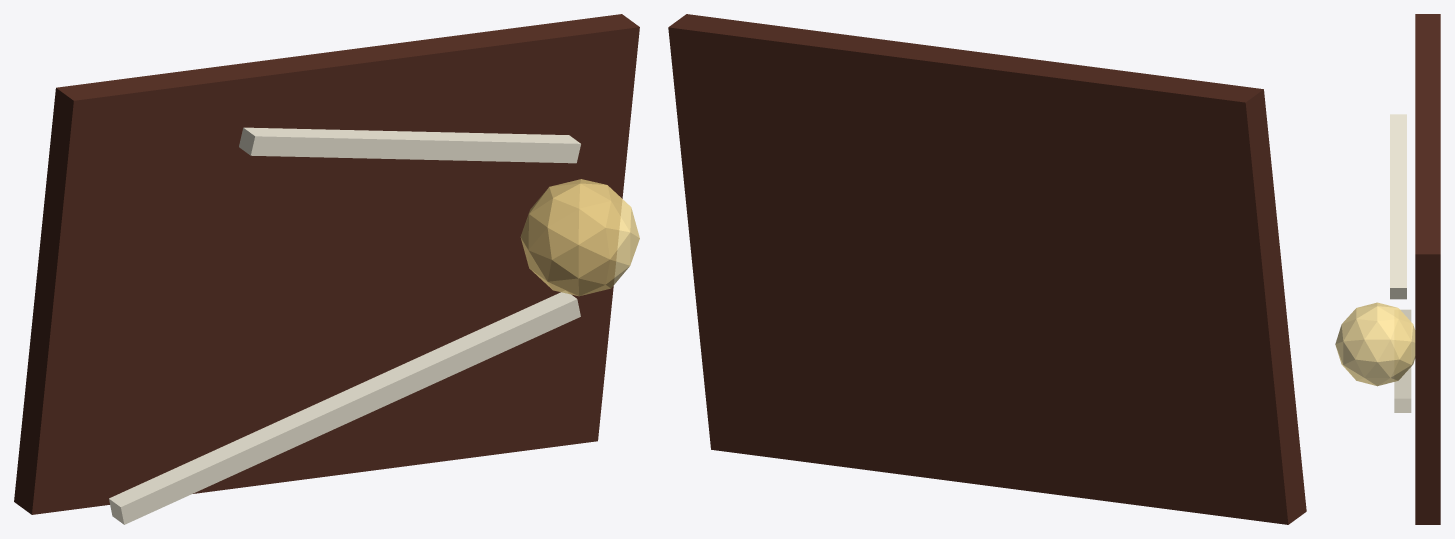
File: 02_world_prop_polish.glb
3 renders of one model, left to right at view 1: azimuth 30°, elevation 25°; view 2: azimuth 150°, elevation 25°; view 3: azimuth 270°, elevation 25°, orthographic. The views are drawn at different scales.
Visible parts, largest first — view 1: object_overlay_plate, edge_wear_a, glow_socket, edge_wear_b; view 2: object_overlay_plate; view 3: object_overlay_plate, glow_socket, edge_wear_b, edge_wear_a.
Boxes of the visible parts, <box> form: object_overlay_plate: <box>14,14,639,514</box>; edge_wear_a: <box>109,291,580,524</box>; glow_socket: <box>520,179,639,296</box>; edge_wear_b: <box>239,127,580,163</box>; object_overlay_plate: <box>668,14,1306,524</box>; object_overlay_plate: <box>1415,14,1440,524</box>; glow_socket: <box>1335,302,1415,386</box>; edge_wear_b: <box>1390,114,1406,299</box>; edge_wear_a: <box>1394,309,1411,412</box>.
Size of the model in its own units: 1.17 by 0.8645 by 0.25.
